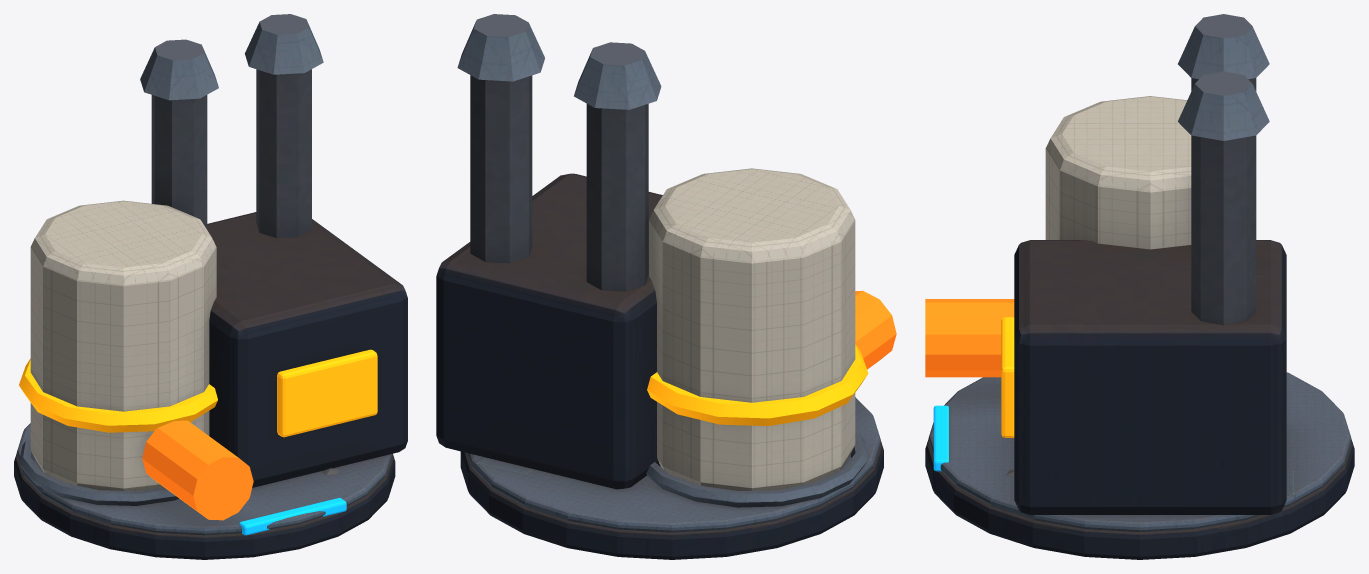
The model's file is processor.glb.
The picture shows the model from 3 angles, left to right: view 1: azimuth 30°, elevation 25°; view 2: azimuth 150°, elevation 25°; view 3: azimuth 270°, elevation 25°; orthographic projection. The views are drawn at different scales.
Visible parts, largest first — view 1: Android Graphite, Android Ceramic, Android Chassis, Android Energy, Android ResourceOre, Android FactionAccent; view 2: Android Graphite, Android Ceramic, Android Chassis, Android Energy, Android ResourceOre; view 3: Android Graphite, Android Chassis, Android Ceramic, Android ResourceOre, Android Energy, Android FactionAccent.
Part boxes in pixels (x1=…): Android Graphite: x1=14, y1=69, x2=407, y2=559; Android Ceramic: x1=30, y1=200, x2=216, y2=491; Android Chassis: x1=17, y1=14, x2=392, y2=535; Android Energy: x1=19, y1=349, x2=377, y2=437; Android ResourceOre: x1=142, y1=420, x2=253, y2=520; Android FactionAccent: x1=239, y1=498, x2=346, y2=535; Android Graphite: x1=436, y1=75, x2=883, y2=559; Android Ceramic: x1=649, y1=168, x2=855, y2=490; Android Chassis: x1=457, y1=14, x2=880, y2=532; Android Energy: x1=647, y1=344, x2=868, y2=426; Android ResourceOre: x1=855, y1=290, x2=896, y2=369; Android Graphite: x1=925, y1=78, x2=1354, y2=559; Android Chassis: x1=928, y1=14, x2=1351, y2=531; Android Ceramic: x1=1045, y1=96, x2=1191, y2=249; Android ResourceOre: x1=925, y1=299, x2=1014, y2=377; Android Energy: x1=1001, y1=317, x2=1014, y2=437; Android FactionAccent: x1=933, y1=405, x2=948, y2=471.
Size of the model in its own units: 0.826 by 0.953 by 0.82.
Materials: 7 (4 with a texture image).
